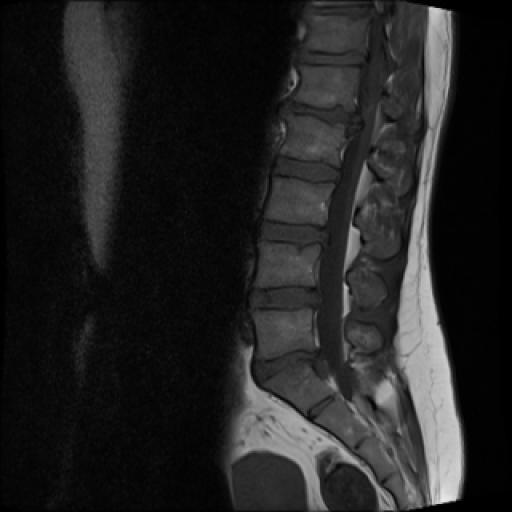L1: (296, 66, 358, 110)
L2: (280, 115, 346, 168)
L3: (266, 178, 334, 226)
L4: (255, 241, 321, 288)
L5: (254, 309, 318, 358)
S1: (264, 363, 335, 416)
